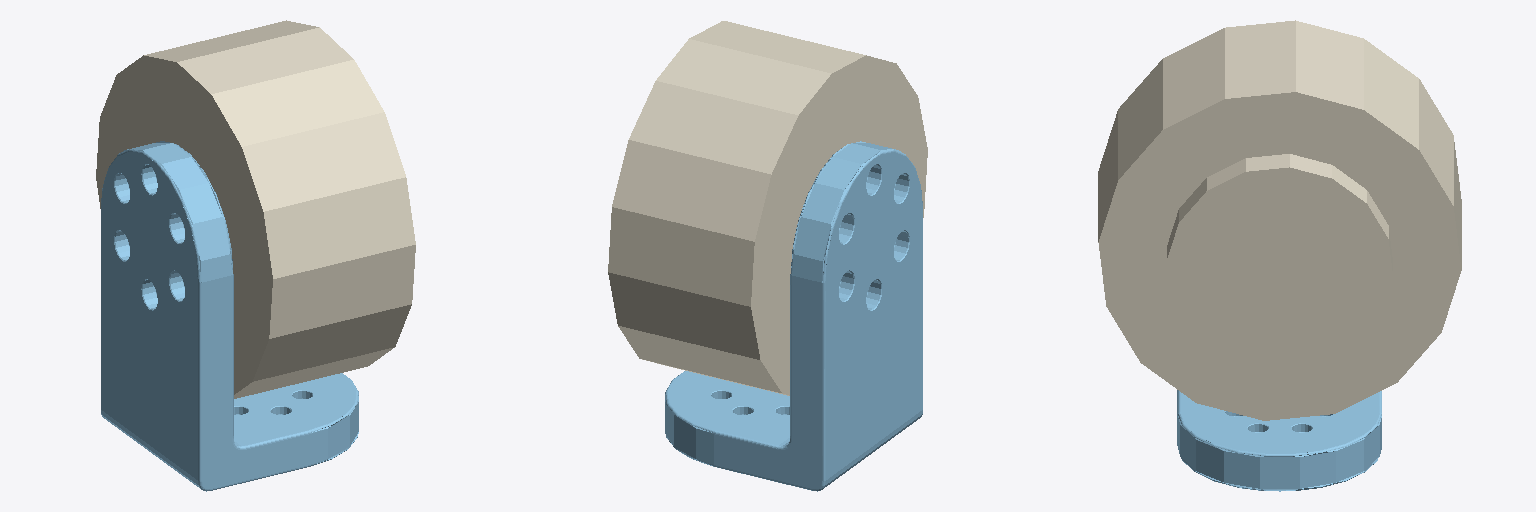
robot.urdf — simple_turret:
<!--URDF generated by ONSHAPE BY PTC INC, 1.213-->
<robot name="simple_turret">
    <link name="part_1">
        <inertial>
            <mass value="1.49866" />
            <origin xyz="1.61912e-18 -8.98462e-20 0.028166" rpy="0 -0 0" />
            <inertia ixx="0.0015335" ixy="0" ixz="0" iyy="0.0015335" iyz="0" izz="0.00224985" />
        </inertial>
        <visual>
            <origin xyz="0 -3.42901e-18 0" rpy="0 -0 0" />
            <geometry>
                <mesh filename="package://simple_turret/meshes/Part 1.stl" scale="1 1 1" />
            </geometry>
            <material name="0.901961_0.878431_0.811765_0.000000_0.000000">
                <texture />
                <color rgba="0.901961 0.878431 0.811765 1" />
            </material>
        </visual>
    </link>
    <link name="part_1_1">
        <inertial>
            <mass value="0.392289" />
            <origin xyz="-1.88325e-18 2.31112e-33 -0.02825" rpy="0 -0 0" />
            <inertia ixx="0.000184016" ixy="0" ixz="0" iyy="0.000184016" iyz="0" izz="0.000159318" />
        </inertial>
        <visual>
            <origin xyz="0 -1.74512e-18 -0.0565" rpy="0 -0 0" />
            <geometry>
                <mesh filename="package://simple_turret/meshes/Part 1_1.stl" scale="1 1 1" />
            </geometry>
            <material name="0.800000_0.776471_0.713725_0.000000_0.000000">
                <texture />
                <color rgba="0.8 0.776471 0.713726 1" />
            </material>
        </visual>
    </link>
    <link name="part_1_2">
        <inertial>
            <mass value="0.000105555" />
            <origin xyz="-0.0242053 -2.11781e-10 0.0325355" rpy="0 -0 0" />
            <inertia ixx="1.30623e-07" ixy="2.01732e-15" ixz="2.82613e-08" iyy="1.28931e-07" iyz="-3.40211e-15" izz="6.53473e-08" />
        </inertial>
        <visual>
            <origin xyz="0 1.75124e-18 -0.004" rpy="0 -0 0" />
            <geometry>
                <mesh filename="package://simple_turret/meshes/Part 1_2.stl" scale="1 1 1" />
            </geometry>
            <material name="0.615686_0.811765_0.929412_0.000000_0.000000">
                <texture />
                <color rgba="0.615686 0.811765 0.929412 1" />
            </material>
        </visual>
    </link>
    <link name="root" />
    <joint name="fastened_1_0" type="fixed">
        <origin xyz="0 0 0" rpy="3.14159 -0 0" />
        <axis xyz="0 0 1" />
        <parent link="root" />
        <child link="part_1_1" />
    </joint>
    <joint name="pan" type="revolute">
        <origin xyz="0 1.75124e-18 -0.0565" rpy="3.14159 -0 0" />
        <axis xyz="0 0 -1" />
        <parent link="part_1_1" />
        <child link="part_1_2" />
        <limit lower="-3.14159" upper="3.14159" effort="10" velocity="3.14159"/>
    </joint>
    <joint name="tilt" type="revolute">
        <origin xyz="-0.0273 -1.0921e-07 0.0729055" rpy="1.5708 -1.48511 1.5708" />
        <axis xyz="0 0 -1" />
        <parent link="part_1_2" />
        <child link="part_1" />
        <limit lower="-3.14159" upper="3.14159" effort="10" velocity="3.14159"/>
    </joint>
</robot>

--- Render facts (derived) ---
3 views of the same robot in one strip: view 1: azimuth 30°, elevation 25°; view 2: azimuth 150°, elevation 25°; view 3: azimuth 270°, elevation 25° (orthographic).
Model simple_turret with 4 links and 3 joints (2 revolute, 1 fixed), rooted at root, posed all joints at 0.
Visible links, largest first — view 1: part_1, part_1_2; view 2: part_1, part_1_2; view 3: part_1, part_1_2.
Link boxes in pixels (x1,y1,x2,y2): part_1: [96, 20, 415, 398]; part_1_2: [101, 141, 358, 491]; part_1: [608, 21, 927, 395]; part_1_2: [665, 141, 922, 491]; part_1: [1098, 20, 1461, 420]; part_1_2: [1177, 390, 1381, 491].
Bounding box of the posed robot: 0.0747 × 0.1116 × 0.1327 m (x, y, z).
Meshes: 3 distinct files referenced, 2 mesh visuals loaded (2 ASCII STL); not drawn: 1 (reference not matched to a file when rendering).
